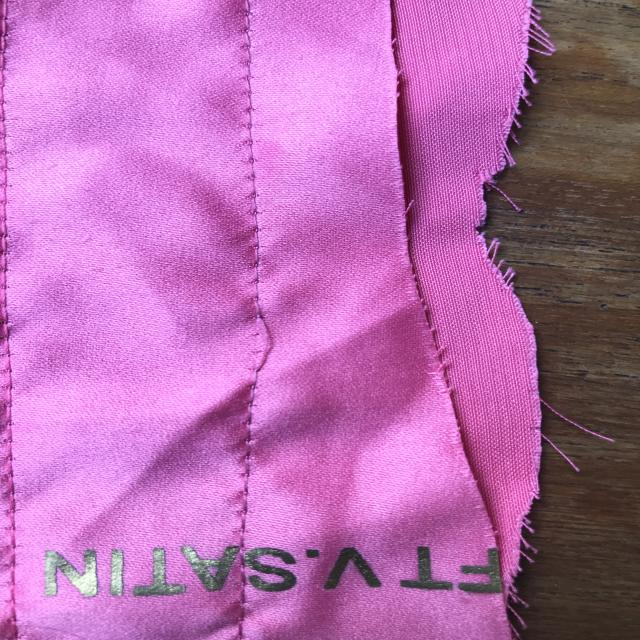skip: (235, 288, 292, 391)
